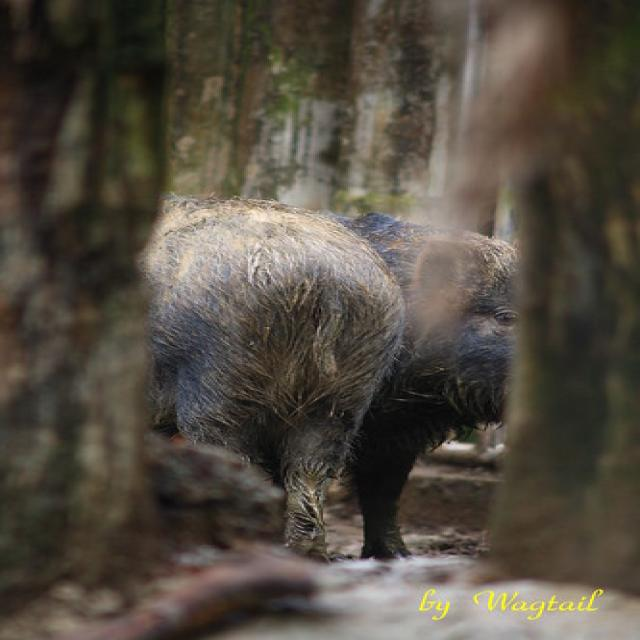boar: (53, 168, 438, 566), (236, 175, 544, 589)
